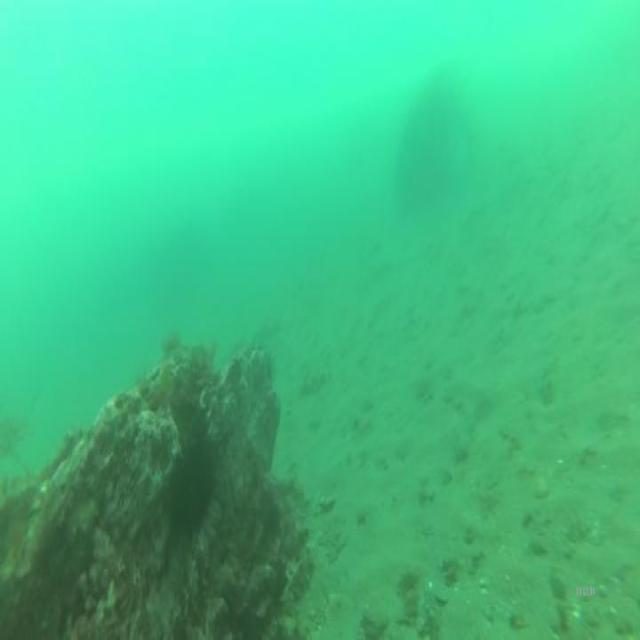echinus: (156, 428, 218, 553)
holothurian: (276, 545, 318, 618)
